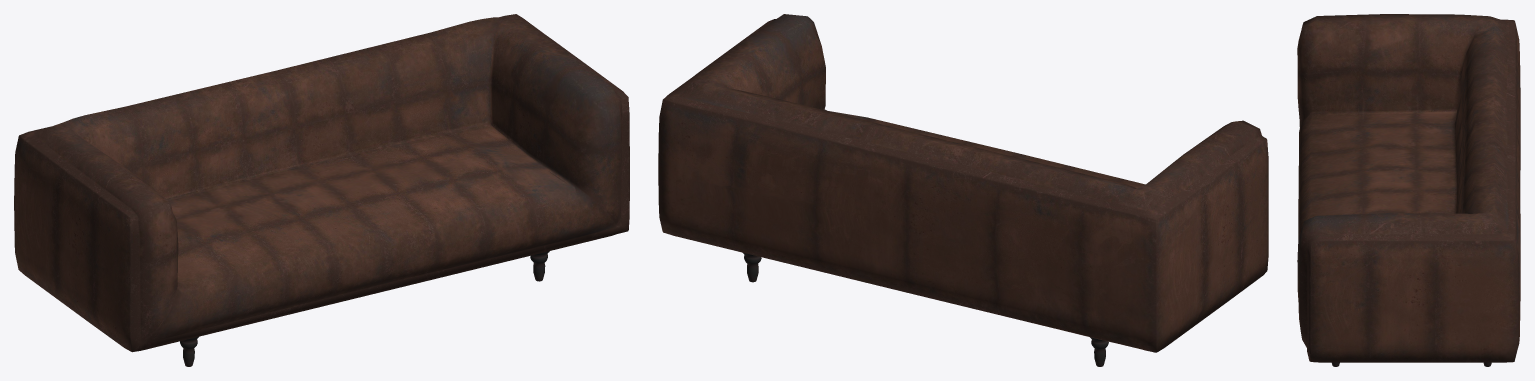
Rendered from sofa.glb.
3 views of the same model, side by side, from view 1: azimuth 30°, elevation 25°; view 2: azimuth 150°, elevation 25°; view 3: azimuth 270°, elevation 25° (orthographic). The views are drawn at different scales.
Visible parts, largest first — view 1: Sofa_Material.001_0; view 2: Sofa_Material.001_0; view 3: Sofa_Material.001_0.
Part boxes in pixels (bbox=[...]): Sofa_Material.001_0: bbox=[14, 14, 629, 366]; Sofa_Material.001_0: bbox=[658, 14, 1268, 366]; Sofa_Material.001_0: bbox=[1297, 14, 1520, 366].
Bounding box in the file's own units: 2.19 × 0.781 × 0.9179.
1 material, 1 textured.
